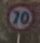limite 70: (5, 2, 36, 32)
